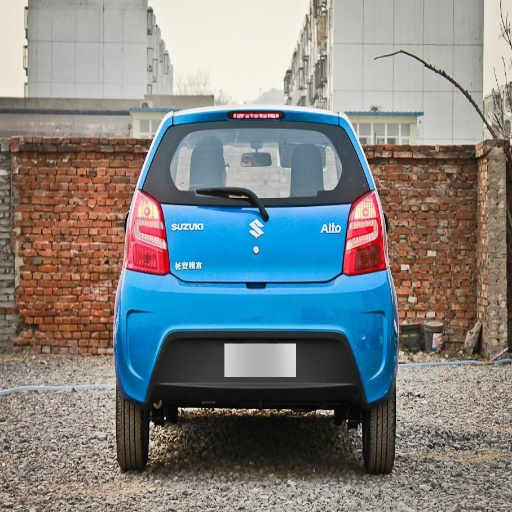back_bumper: (113, 269, 395, 406)
back_right_light: (345, 193, 386, 274)
trunk: (163, 190, 367, 285)
